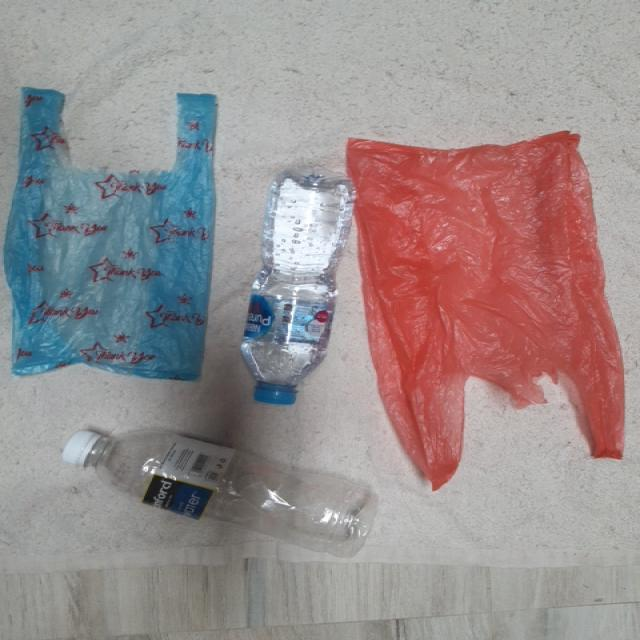Single-layer Plastic: (348, 131, 622, 488), (4, 88, 216, 379)
